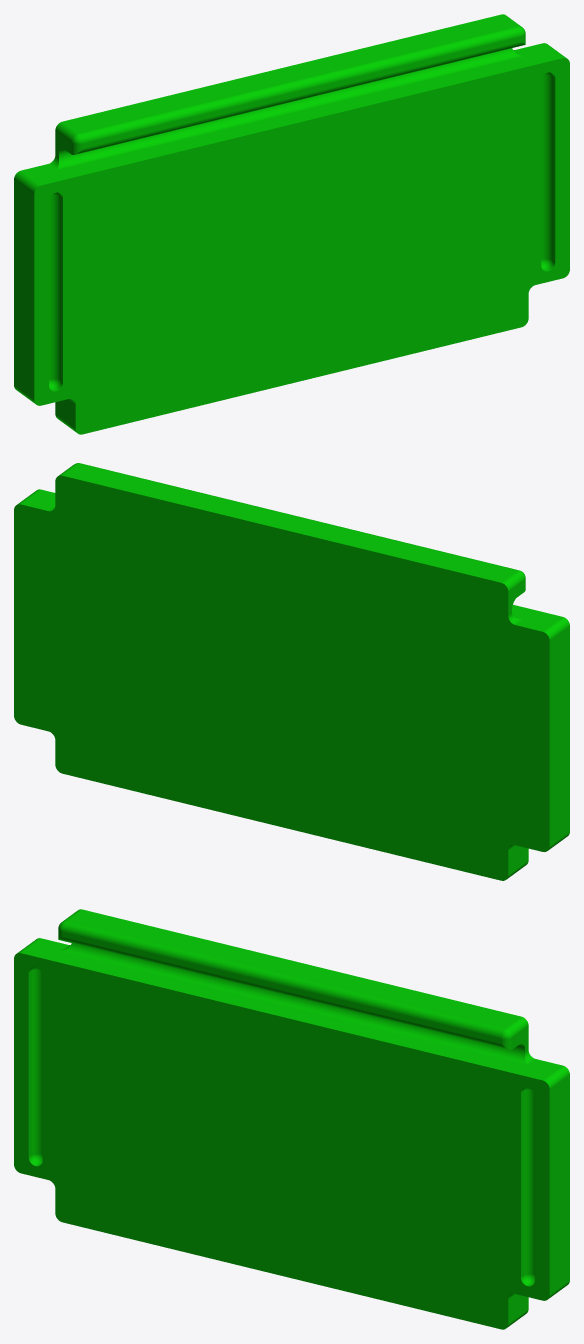
File: Filete3_2.FBX
3 views of the same model, one above another, from view 1: azimuth 30°, elevation 25°; view 2: azimuth 150°, elevation 25°; view 3: azimuth 330°, elevation 25° (orthographic).
Visible parts, largest first — view 1: Filete3_2; view 2: Filete3_2; view 3: Filete3_2.
Part boxes in pixels (x1,y1,x2,y2): Filete3_2: (14,14,569,434); Filete3_2: (14,463,569,880); Filete3_2: (14,909,569,1329).
Bounding box in the file's own units: 76.2 × 5 × 40.5.
